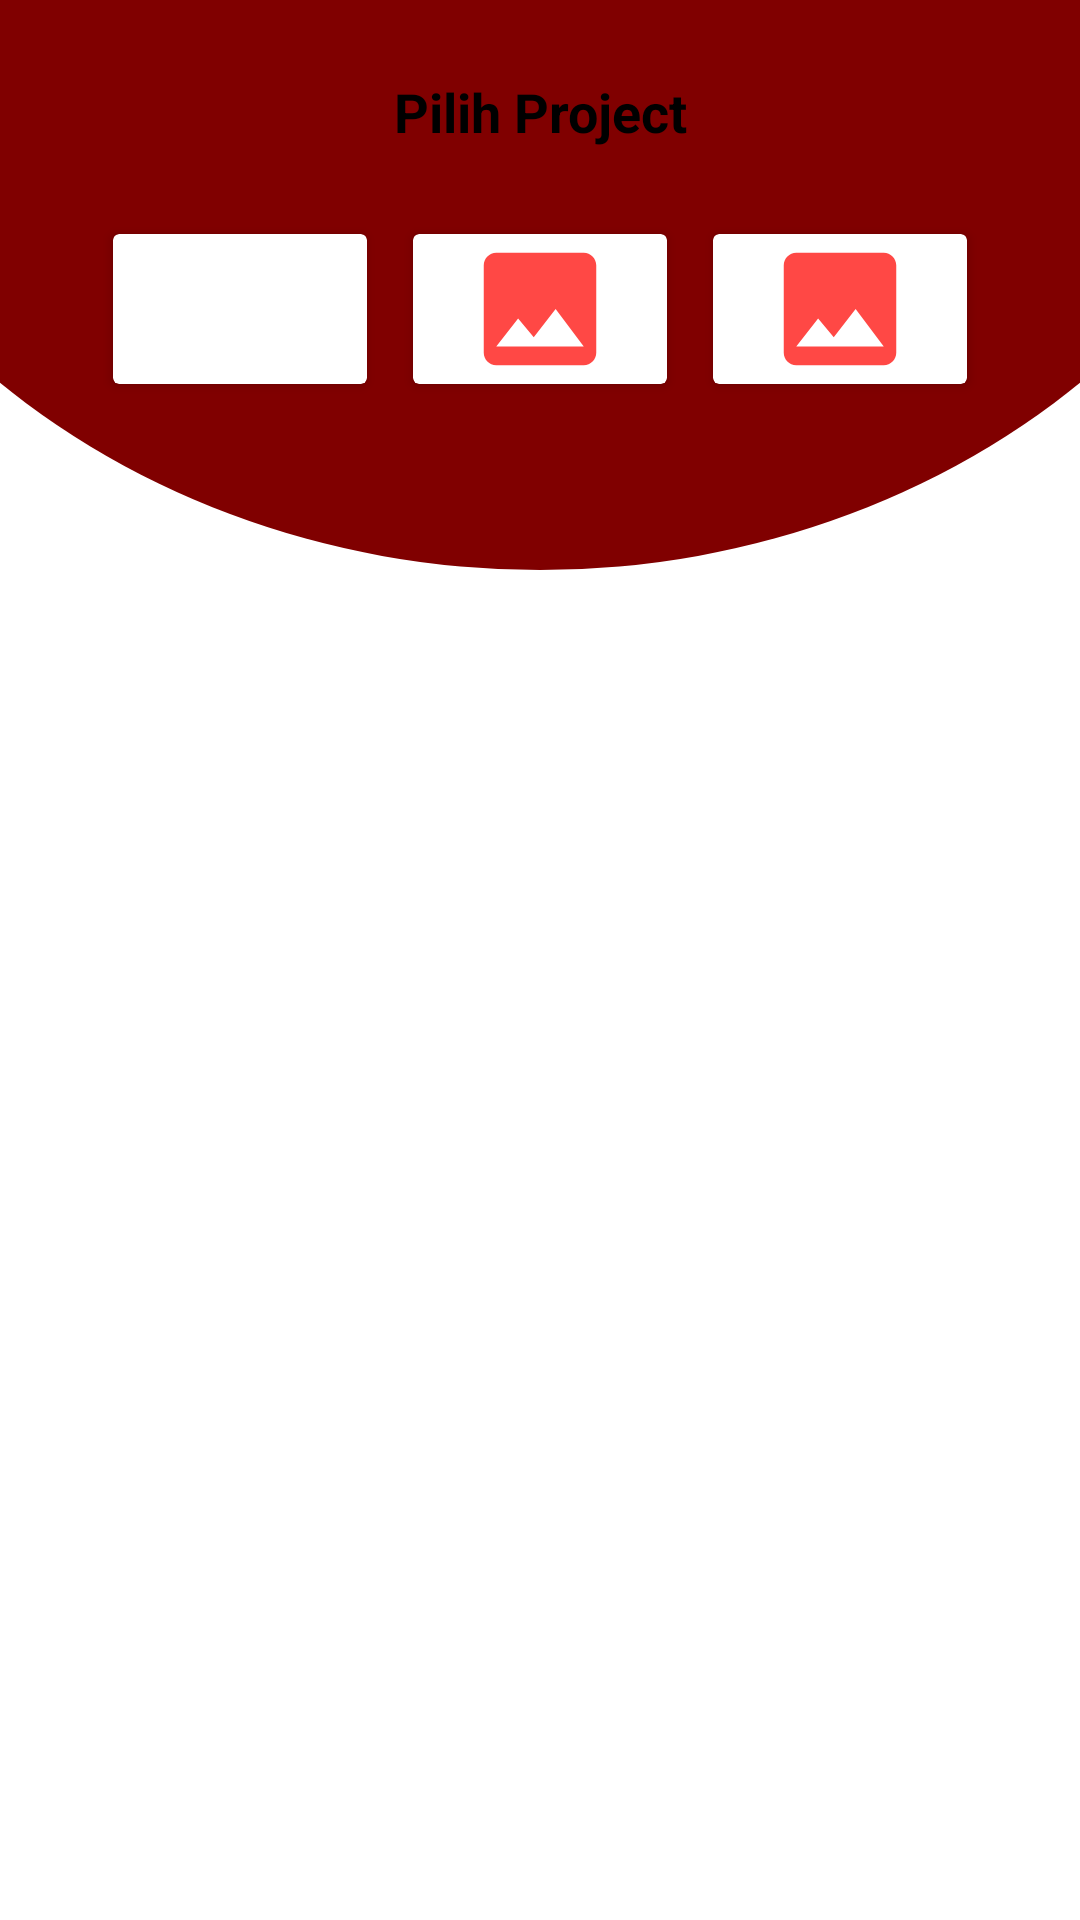

Screen size 1080 × 1920. Icon name, then its box in pixels as (x1,y1,x2,y2):
photo: (483,252,597,366), (783,252,897,366)
